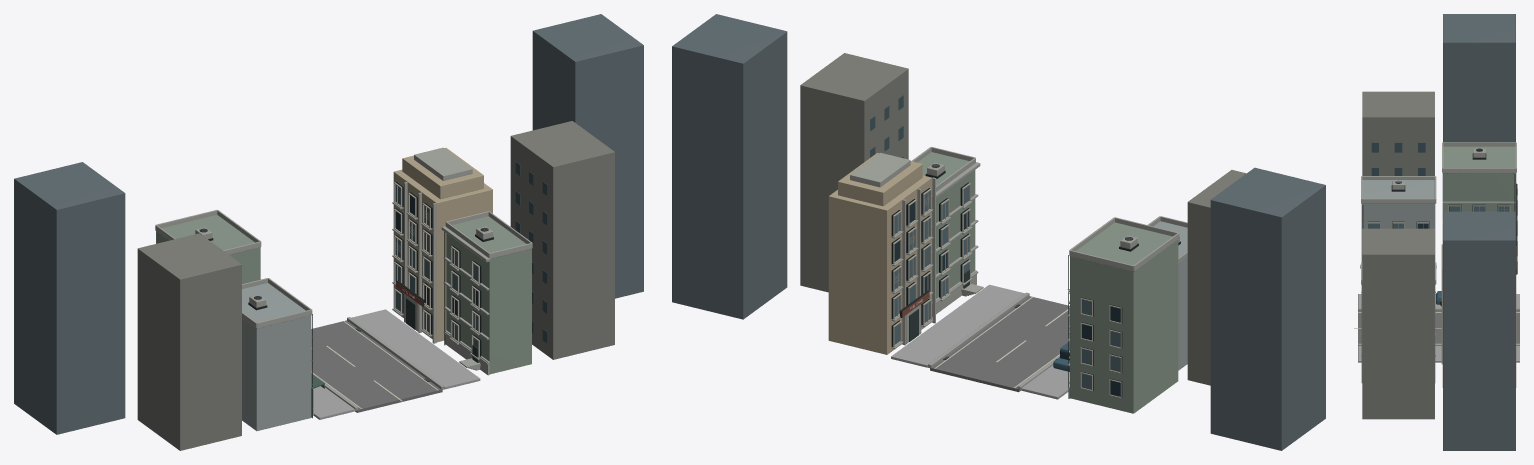
File: city_hd_01.glb
3 views of the same model, side by side, from view 1: azimuth 30°, elevation 25°; view 2: azimuth 150°, elevation 25°; view 3: azimuth 270°, elevation 25° (orthographic). The views are drawn at different scales.
Parts seen in each view (by area): view 1: CITY_distant_2, CITY_distant_1, CITY_wall_sage, Mixed use shop volume, CITY_trim, CITY_PBR_asphalt, CITY_wall_sand, CITY_PBR_pavement, CITY_frame, CITY_glass, CITY_recess, CITY_distant_window (+2 smaller); view 2: CITY_distant_2, CITY_distant_1, CITY_wall_sage, CITY_wall_sand, CITY_trim, CITY_PBR_asphalt, CITY_PBR_pavement, CITY_frame, CITY_glass, CITY_recess, Mixed use shop volume, CITY_glass_dark (+1 smaller); view 3: CITY_distant_2, CITY_distant_1, CITY_wall_sage, Mixed use shop volume, CITY_trim, CITY_PBR_asphalt, CITY_distant_window, CITY_PBR_pavement, CITY_frame, CITY_glass, CITY_recess, CITY_wall_sand (+2 smaller).
Boxes of the visible parts, bbox=[...] form: CITY_distant_2: bbox=[14, 14, 643, 434]; CITY_distant_1: bbox=[137, 121, 614, 450]; CITY_wall_sage: bbox=[156, 215, 531, 374]; Mixed use shop volume: bbox=[242, 283, 311, 430]; CITY_trim: bbox=[155, 147, 532, 375]; CITY_PBR_asphalt: bbox=[311, 320, 442, 412]; CITY_wall_sand: bbox=[393, 148, 492, 342]; CITY_PBR_pavement: bbox=[313, 309, 480, 419]; CITY_frame: bbox=[313, 182, 479, 415]; CITY_glass: bbox=[395, 185, 478, 347]; CITY_recess: bbox=[395, 181, 481, 356]; CITY_distant_window: bbox=[515, 162, 547, 343]; CITY_distant_2: bbox=[672, 14, 1325, 450]; CITY_distant_1: bbox=[800, 53, 1246, 385]; CITY_wall_sage: bbox=[917, 152, 1178, 413]; CITY_wall_sand: bbox=[828, 153, 931, 354]; CITY_trim: bbox=[850, 147, 1187, 398]; CITY_PBR_asphalt: bbox=[930, 296, 1069, 392]; CITY_PBR_pavement: bbox=[891, 284, 1069, 399]; CITY_frame: bbox=[893, 183, 1121, 398]; CITY_glass: bbox=[894, 186, 1120, 389]; CITY_recess: bbox=[891, 182, 1122, 397]; Mixed use shop volume: bbox=[1153, 221, 1187, 370]; CITY_glass_dark: bbox=[894, 202, 1120, 396]; CITY_distant_2: bbox=[1443, 14, 1515, 450]; CITY_distant_1: bbox=[1362, 91, 1434, 419]; CITY_wall_sage: bbox=[1361, 146, 1516, 382]; Mixed use shop volume: bbox=[1361, 180, 1435, 261]; CITY_trim: bbox=[1360, 142, 1516, 364]; CITY_PBR_asphalt: bbox=[1358, 311, 1519, 343]; CITY_distant_window: bbox=[1371, 142, 1425, 175]; CITY_PBR_pavement: bbox=[1358, 294, 1519, 362]; CITY_frame: bbox=[1367, 184, 1517, 274]; CITY_glass: bbox=[1368, 206, 1509, 228]; CITY_recess: bbox=[1368, 183, 1516, 274]; CITY_wall_sand: bbox=[1442, 246, 1516, 387].
Size of the model in its own units: 57.3 by 23.26 by 16.4.
